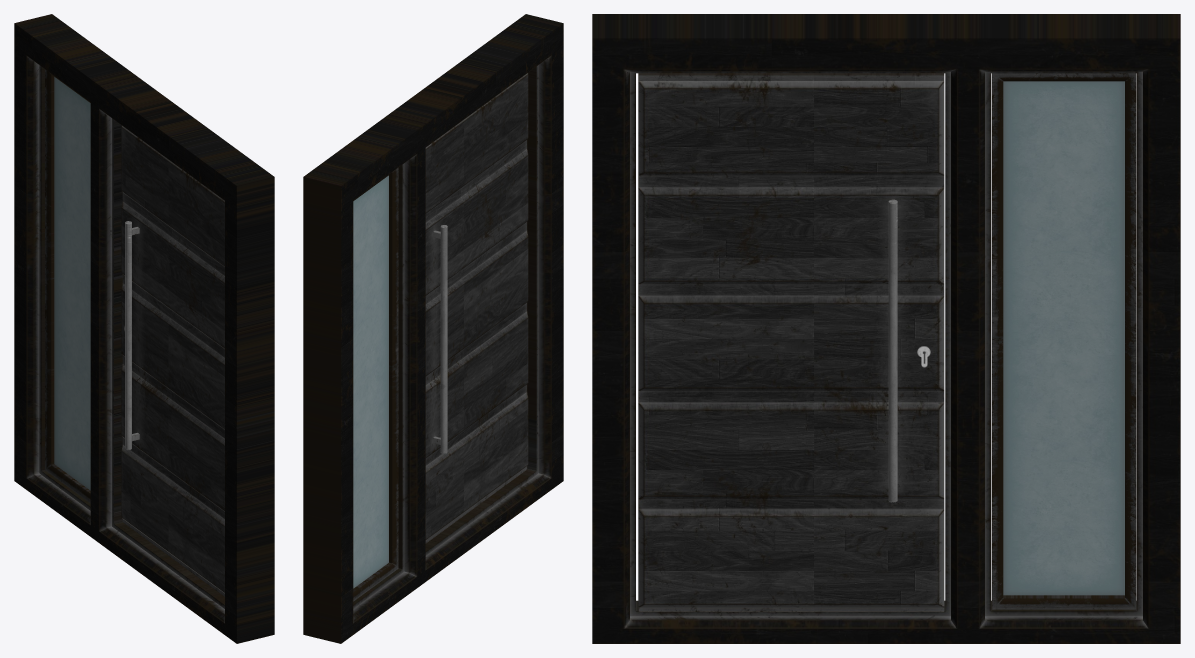
3 views of the same model, side by side, from view 1: azimuth 30°, elevation 25°; view 2: azimuth 150°, elevation 25°; view 3: azimuth 270°, elevation 25° (orthographic). The views are drawn at different scales.
Parts seen in each view (by area): view 1: door; view 2: door; view 3: door.
Boxes of the visible parts, x1=… form: door: x1=14, y1=14, x2=274, y2=643; door: x1=303, y1=14, x2=563, y2=643; door: x1=592, y1=14, x2=1180, y2=643.
Size of the model in its own units: 1.18 by 11.42 by 10.05.
1 material, 1 textured.
